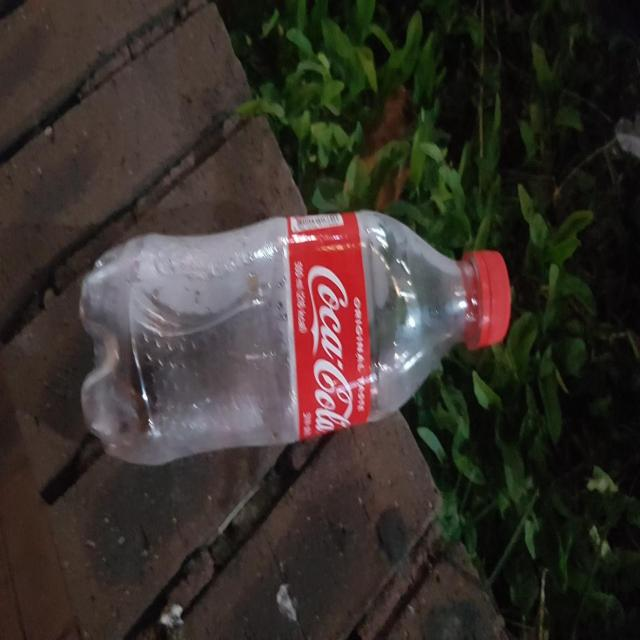plastic: (79, 210, 512, 464)
